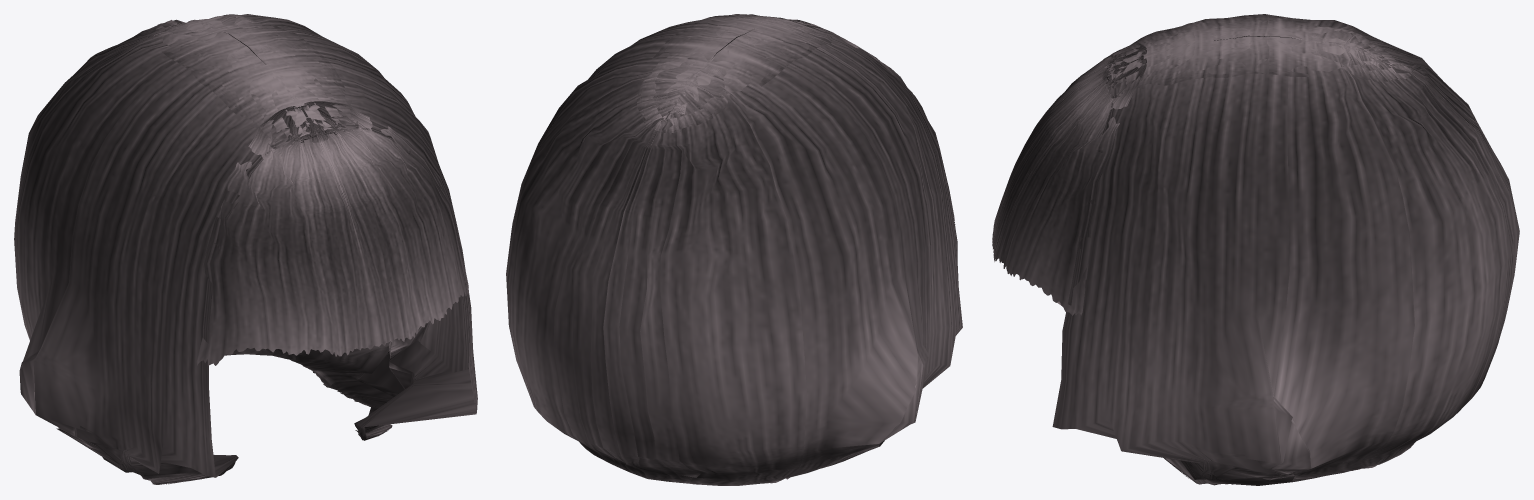
File: hair_bob02.glb
3 views of the same model, side by side, from view 1: azimuth 30°, elevation 25°; view 2: azimuth 150°, elevation 25°; view 3: azimuth 270°, elevation 25° (orthographic).
Visible parts, largest first — view 1: hair_bob02; view 2: hair_bob02; view 3: hair_bob02.
Part boxes in pixels (box(x1,y1,x2,y2)): hair_bob02: box(14, 14, 477, 484); hair_bob02: box(506, 14, 962, 485); hair_bob02: box(992, 14, 1519, 485).
Size of the model in its own units: 0.1716 by 0.1561 by 0.1913.
1 material, 1 textured.
